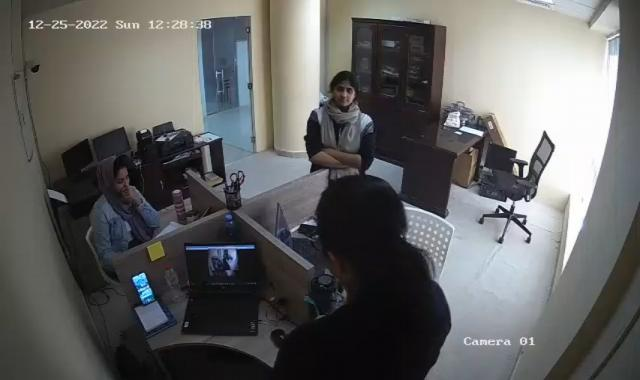no_hairnet: (310, 176, 416, 286), (95, 156, 128, 189), (330, 72, 356, 106)
